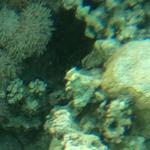dead: (4, 1, 148, 145)
